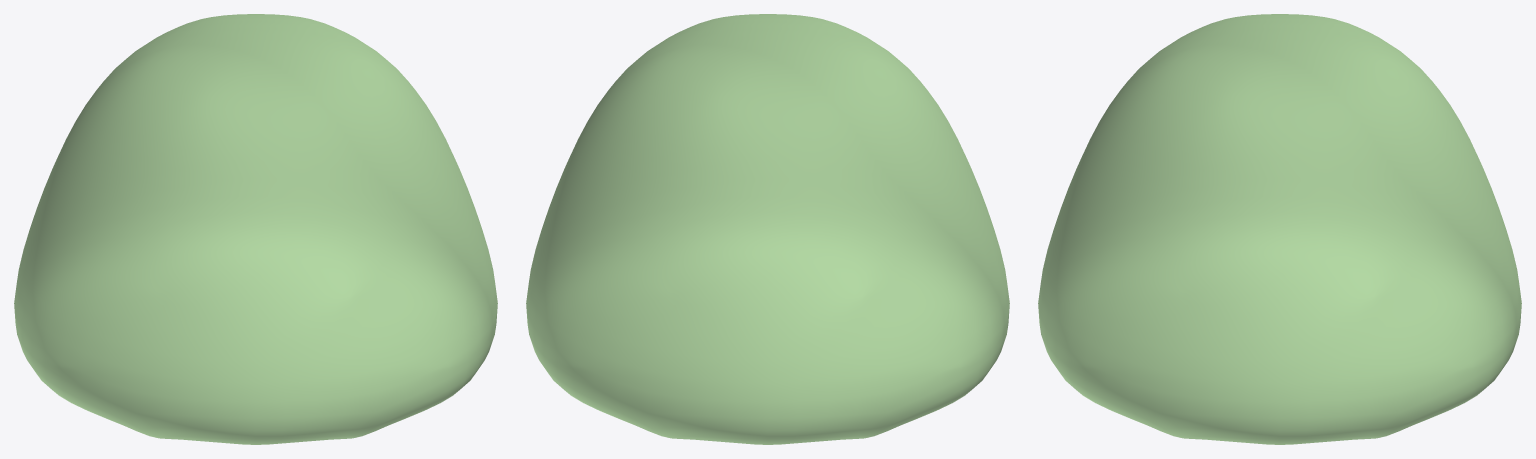
The model's file is BigGoop.fbx.
3 renders of one model, left to right at view 1: azimuth 30°, elevation 25°; view 2: azimuth 150°, elevation 25°; view 3: azimuth 270°, elevation 25°, orthographic.
Parts seen in each view (by area): view 1: Cone; view 2: Cone; view 3: Cone.
Part boxes in pixels (x1,y1,x2,y2): Cone: (14, 14, 497, 444); Cone: (526, 14, 1009, 444); Cone: (1038, 14, 1521, 444).
Bounding box in the file's own units: 1.53 × 1.54 × 1.19.
